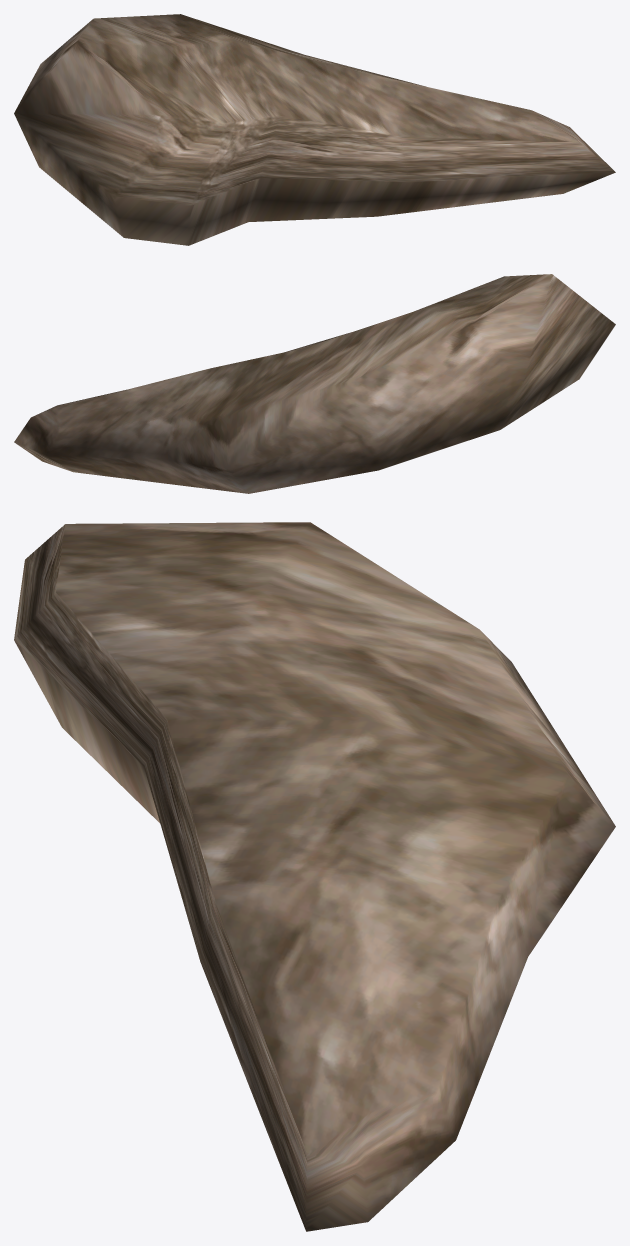
The model's file is OVERHILL_A_01_LINE304.fbx.
The picture shows the model from 3 angles, top to bottom: view 1: azimuth 30°, elevation 25°; view 2: azimuth 150°, elevation 25°; view 3: azimuth 270°, elevation 25°; orthographic projection. The views are drawn at different scales.
Visible parts, largest first — view 1: OVERHILL_A_01_LINE304; view 2: OVERHILL_A_01_LINE304; view 3: OVERHILL_A_01_LINE304.
Part boxes in pixels (left/top/right/bottom): OVERHILL_A_01_LINE304: left=14, top=14, right=615, bottom=245; OVERHILL_A_01_LINE304: left=14, top=274, right=615, bottom=493; OVERHILL_A_01_LINE304: left=14, top=522, right=615, bottom=1231.
Size of the model in its own units: 57953 by 24846 by 36711.
Materials: 1 (1 with a texture image).
